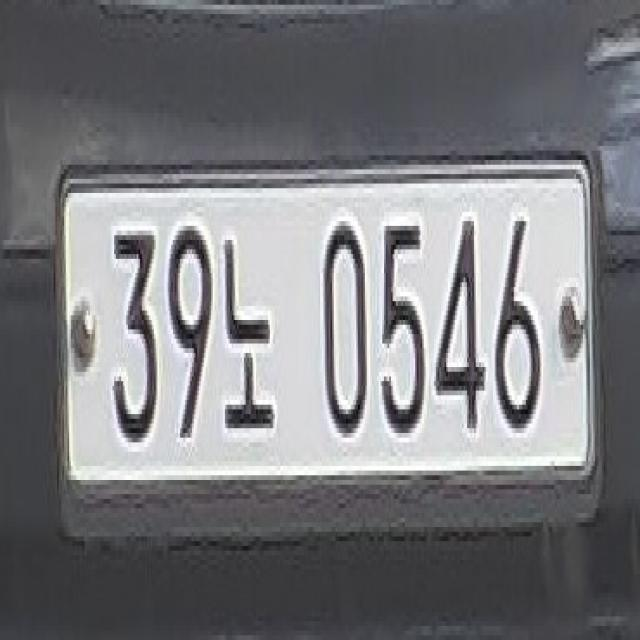0: (320, 212, 370, 433)
3: (109, 226, 161, 447)
4: (429, 212, 488, 428)
5: (375, 212, 429, 438)
6: (493, 212, 543, 438)
9: (166, 217, 213, 442)
license_plate: (56, 146, 598, 513)
no: (218, 226, 277, 438)
